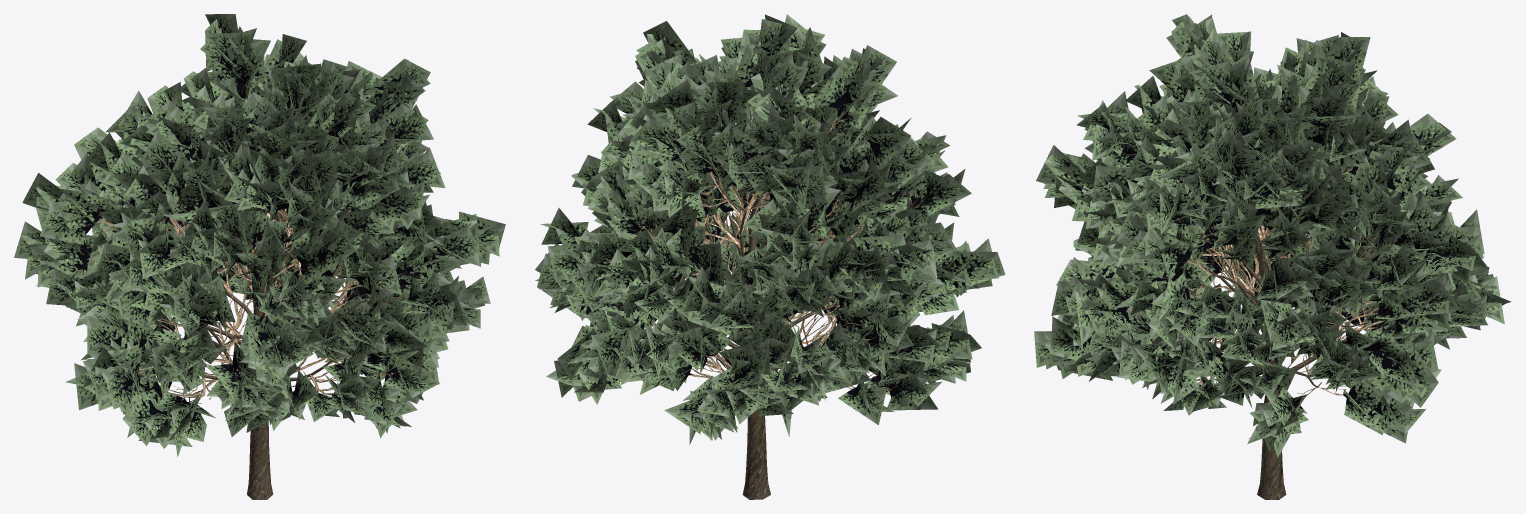
File: arvore_a.glb
3 renders of one model, left to right at view 1: azimuth 30°, elevation 25°; view 2: azimuth 150°, elevation 25°; view 3: azimuth 270°, elevation 25°, orthographic. The views are drawn at different scales.
Visible parts, largest first — view 1: Leaf_6.001, Bark_9.001; view 2: Leaf_6.001, Bark_9.001; view 3: Leaf_6.001, Bark_9.001.
Part boxes in pixels (x1=…): Leaf_6.001: x1=14, y1=14, x2=505, y2=456; Bark_9.001: x1=199, y1=210, x2=392, y2=499; Leaf_6.001: x1=535, y1=14, x2=1005, y2=444; Bark_9.001: x1=699, y1=118, x2=837, y2=499; Leaf_6.001: x1=1034, y1=14, x2=1511, y2=457; Bark_9.001: x1=1202, y1=233, x2=1392, y2=499.
Size of the model in its own units: 4.61 by 5.14 by 4.82.
Materials: 3 (3 with a texture image).
